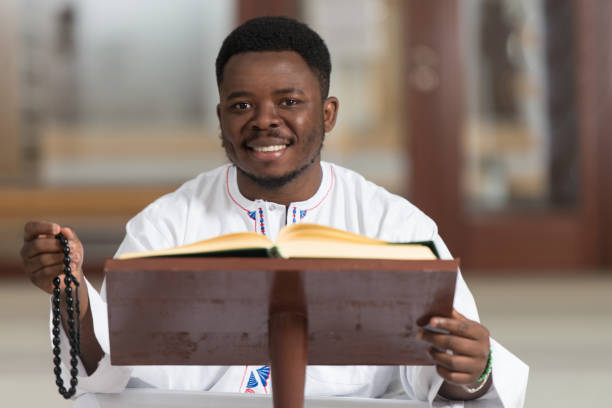person: (213, 15, 341, 188)
